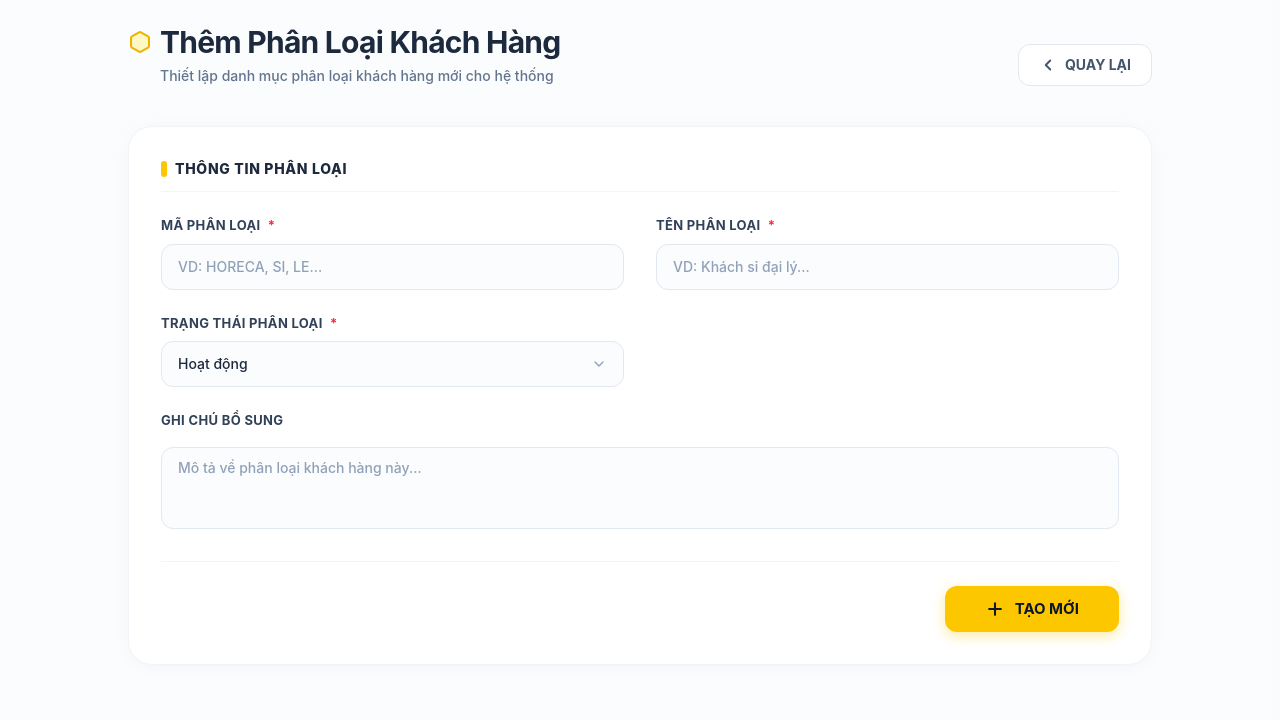
Test: Module 06 - CustomerTypeForm Component › TC02 - Hiển thị lỗi validation khi submit dữ liệu trống
Expected: the heading "Thêm Phân Loại Khách Hàng" is shown, [160,24,560,60]
Click the button "TẠO MỚI". click: {"x": 1032, "y": 609}
box: [945,586,1119,632]
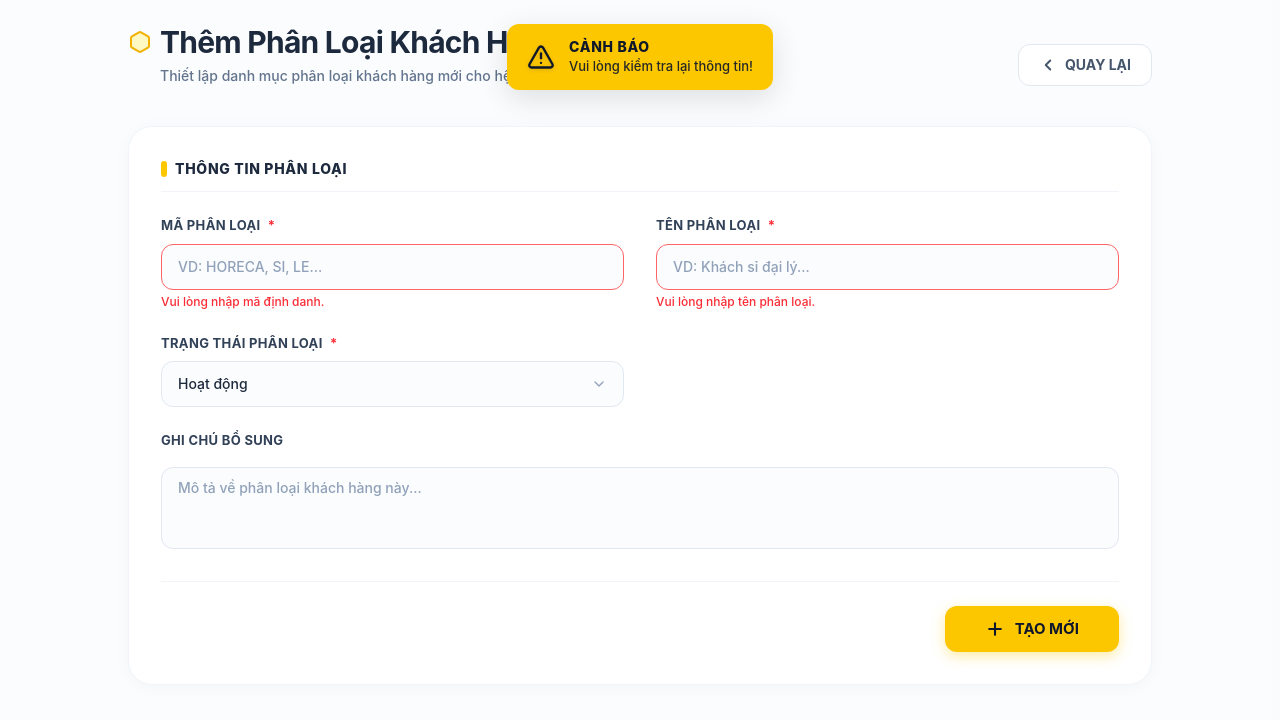
Expected: the text "Vui lòng nhập mã định danh." is shown, [161,294,324,308]
Expected: the text "Vui lòng nhập tên phân loại." is shown, [656,294,815,308]
